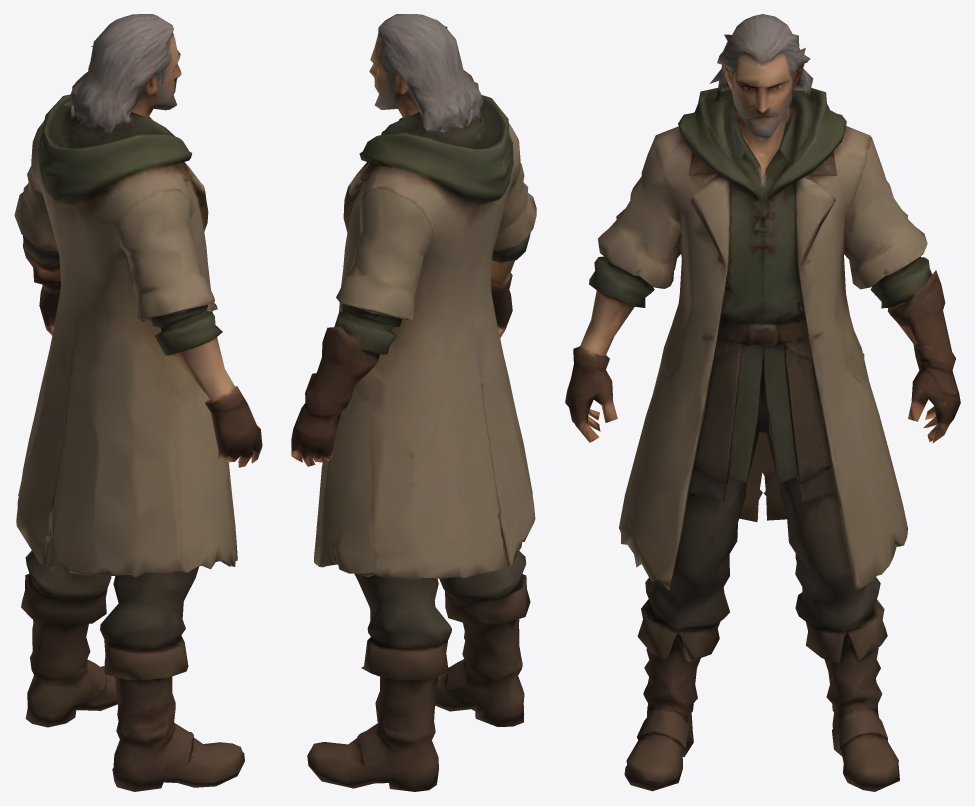
Rendered from model-npc-rooke-01.glb.
3 renders of one model, left to right at view 1: azimuth 30°, elevation 25°; view 2: azimuth 150°, elevation 25°; view 3: azimuth 270°, elevation 25°, orthographic. The views are drawn at different scales.
Visible parts, largest first — view 1: tripo_node_d0ca194a-3653-4499-9343-76dfa79cfde7; view 2: tripo_node_d0ca194a-3653-4499-9343-76dfa79cfde7; view 3: tripo_node_d0ca194a-3653-4499-9343-76dfa79cfde7.
Part boxes in pixels (bbox=[...]): tripo_node_d0ca194a-3653-4499-9343-76dfa79cfde7: bbox=[14, 14, 262, 791]; tripo_node_d0ca194a-3653-4499-9343-76dfa79cfde7: bbox=[291, 14, 536, 791]; tripo_node_d0ca194a-3653-4499-9343-76dfa79cfde7: bbox=[565, 14, 960, 791].
Size of the model in its own units: 0.407 by 1.85 by 0.8829.
1 material, 1 textured.
